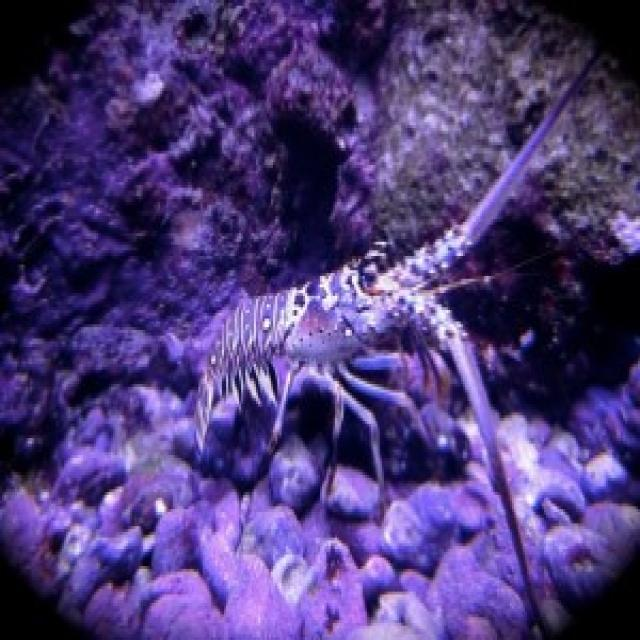lobsters: (95, 169, 634, 640)
